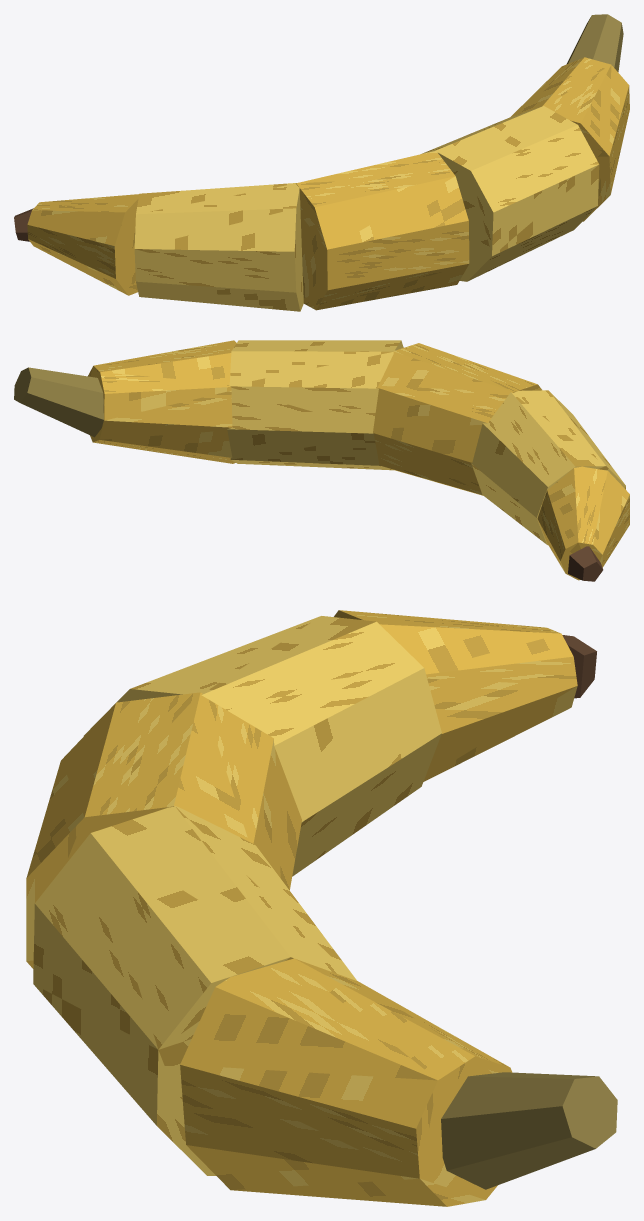
Rendered from banana.glb.
The picture shows the model from 3 angles, top to bottom: view 1: azimuth 30°, elevation 25°; view 2: azimuth 150°, elevation 25°; view 3: azimuth 270°, elevation 25°; orthographic projection. The views are drawn at different scales.
Parts seen in each view (by area): view 1: block_yellow curved peel 2, block_yellow curved peel 1, block_yellow curved peel 3, block_yellow curved peel 0, block_yellow curved peel 4, block_green-brown stem; view 2: block_yellow curved peel 3, block_yellow curved peel 2, block_yellow curved peel 4, block_yellow curved peel 1, block_yellow curved peel 0, block_green-brown stem, block_dark blossom end; view 3: block_yellow curved peel 4, block_yellow curved peel 3, block_yellow curved peel 1, block_yellow curved peel 2, block_yellow curved peel 0, block_green-brown stem, block_dark blossom end.
Boxes of the visible parts, x1,y1,x2,y2 form: block_yellow curved peel 2: (296, 151, 469, 310); block_yellow curved peel 1: (134, 183, 303, 311); block_yellow curved peel 3: (422, 106, 599, 281); block_yellow curved peel 0: (27, 194, 139, 295); block_yellow curved peel 4: (511, 57, 629, 221); block_green-brown stem: (566, 14, 623, 72); block_yellow curved peel 3: (227, 340, 403, 470); block_yellow curved peel 2: (373, 343, 541, 495); block_yellow curved peel 4: (88, 340, 236, 463); block_yellow curved peel 1: (471, 390, 625, 544); block_yellow curved peel 0: (537, 466, 629, 580); block_green-brown stem: (14, 367, 103, 437); block_dark blossom end: (568, 546, 603, 581); block_yellow curved peel 4: (180, 958, 512, 1206); block_yellow curved peel 3: (33, 805, 356, 1175); block_yellow curved peel 1: (83, 616, 441, 876); block_yellow curved peel 2: (26, 692, 301, 968); block_yellow curved peel 0: (334, 610, 577, 781); block_green-brown stem: (441, 1072, 617, 1189); block_dark blossom end: (562, 635, 596, 698).
Bounding box in the file's own units: 0.16 × 0.0321 × 0.07.
Materials: 1 (1 with a texture image).
